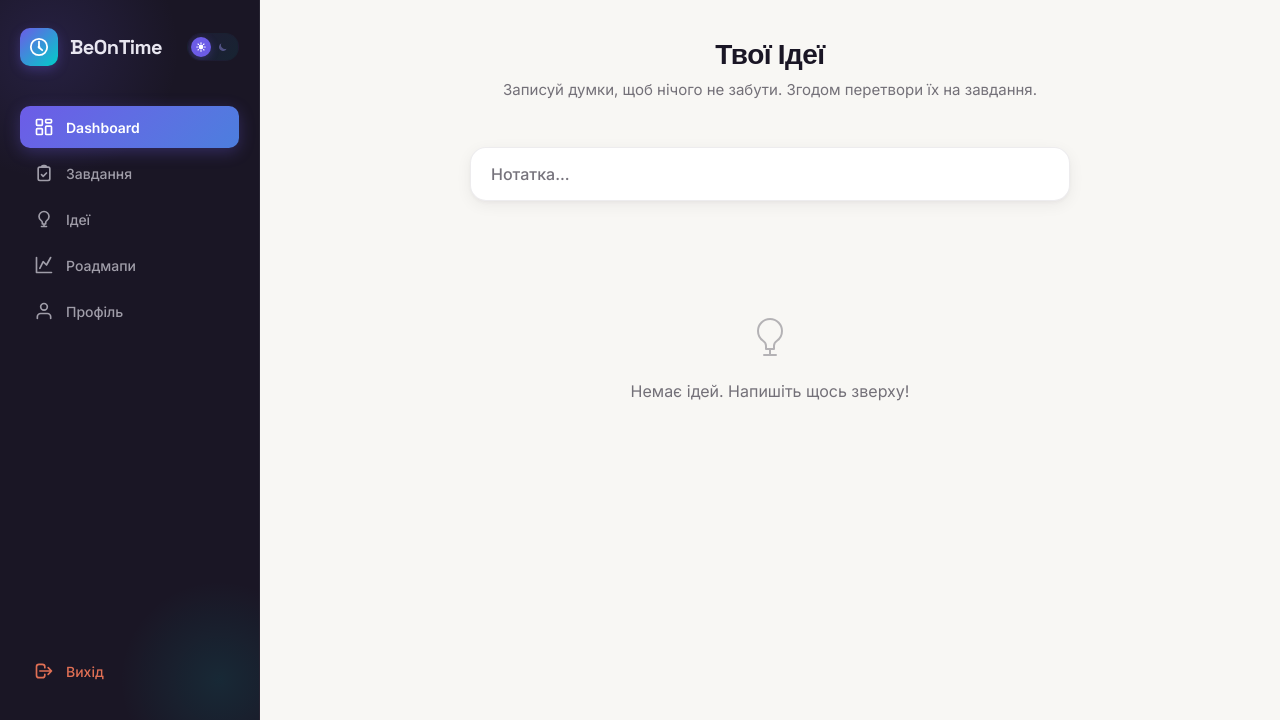
Scenario: IdeasPage Component › повинен розгортати поле вводу при фокусі
Click the field with placeholder "Нотатка..." at (770, 174), box [491,164,1049,184]
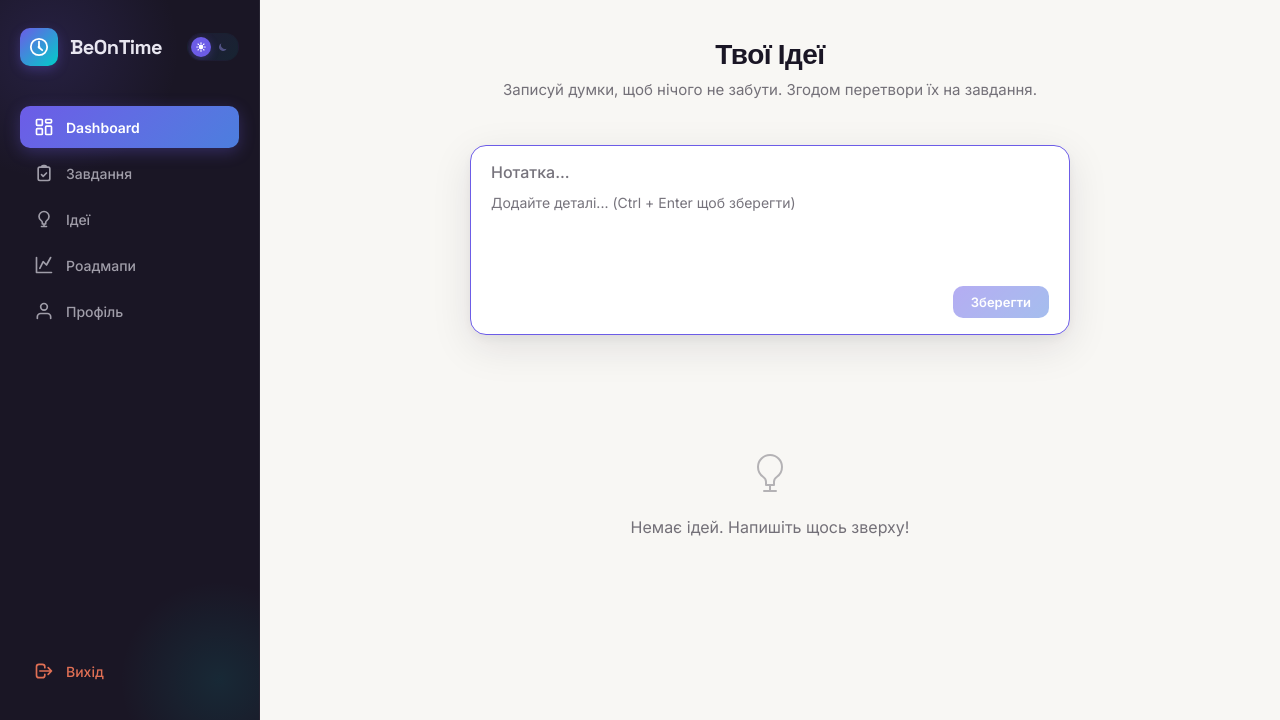
expect the text box with placeholder "Додайте деталі... (Ctrl + Enter щоб зберегти)" is shown: met, box [491,194,1049,274]
expect the button "Зберегти" is shown: met, box [953,286,1049,318]
